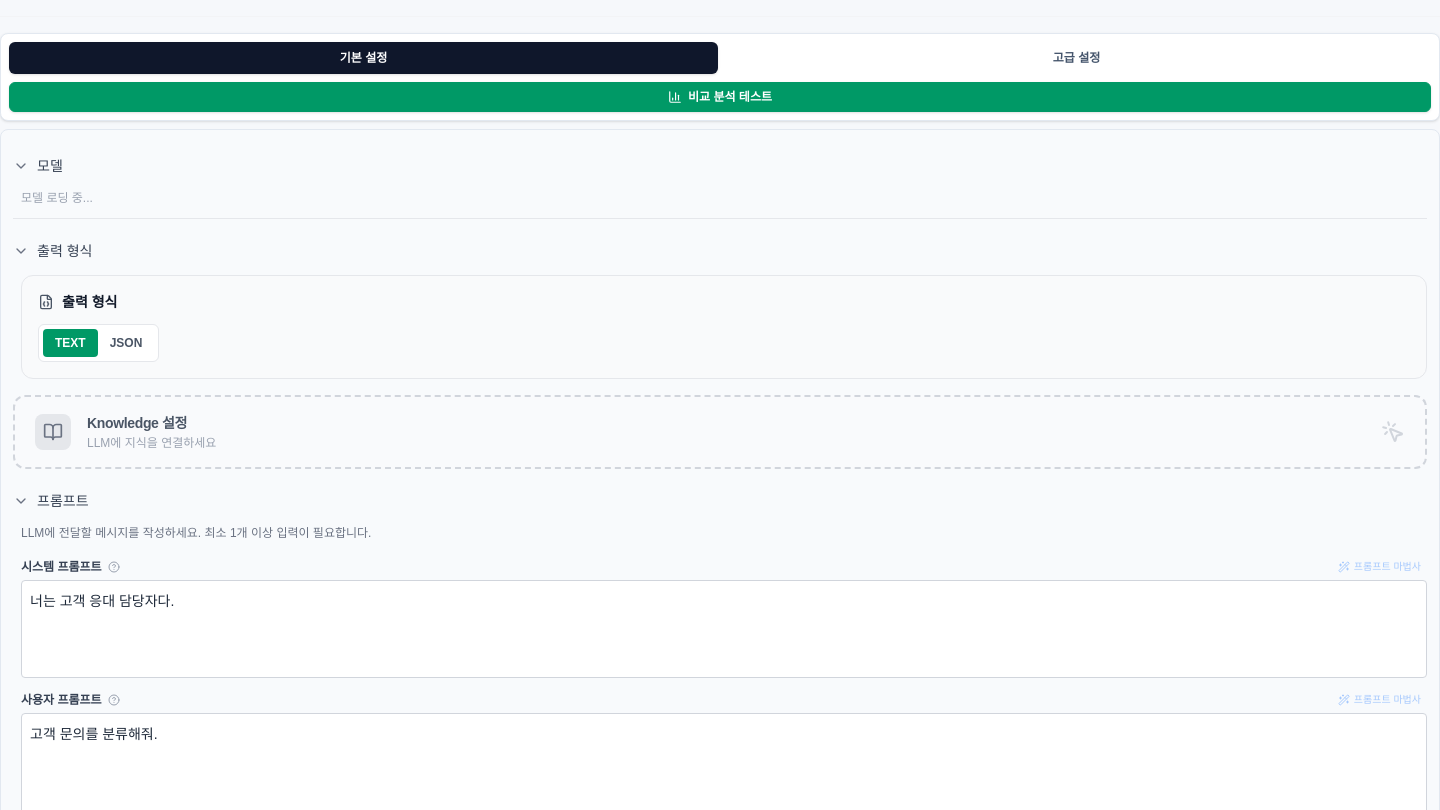
Scenario: FR-001 Cost Optimizer 비교 분석 진입 액션 › 저장되지 않은 draft가 있으면 저장 후 비교를 시작해야 한다는 안내를 표시한다
Click the button "비교 분석 테스트": [720, 97] box [9,82,1431,112]
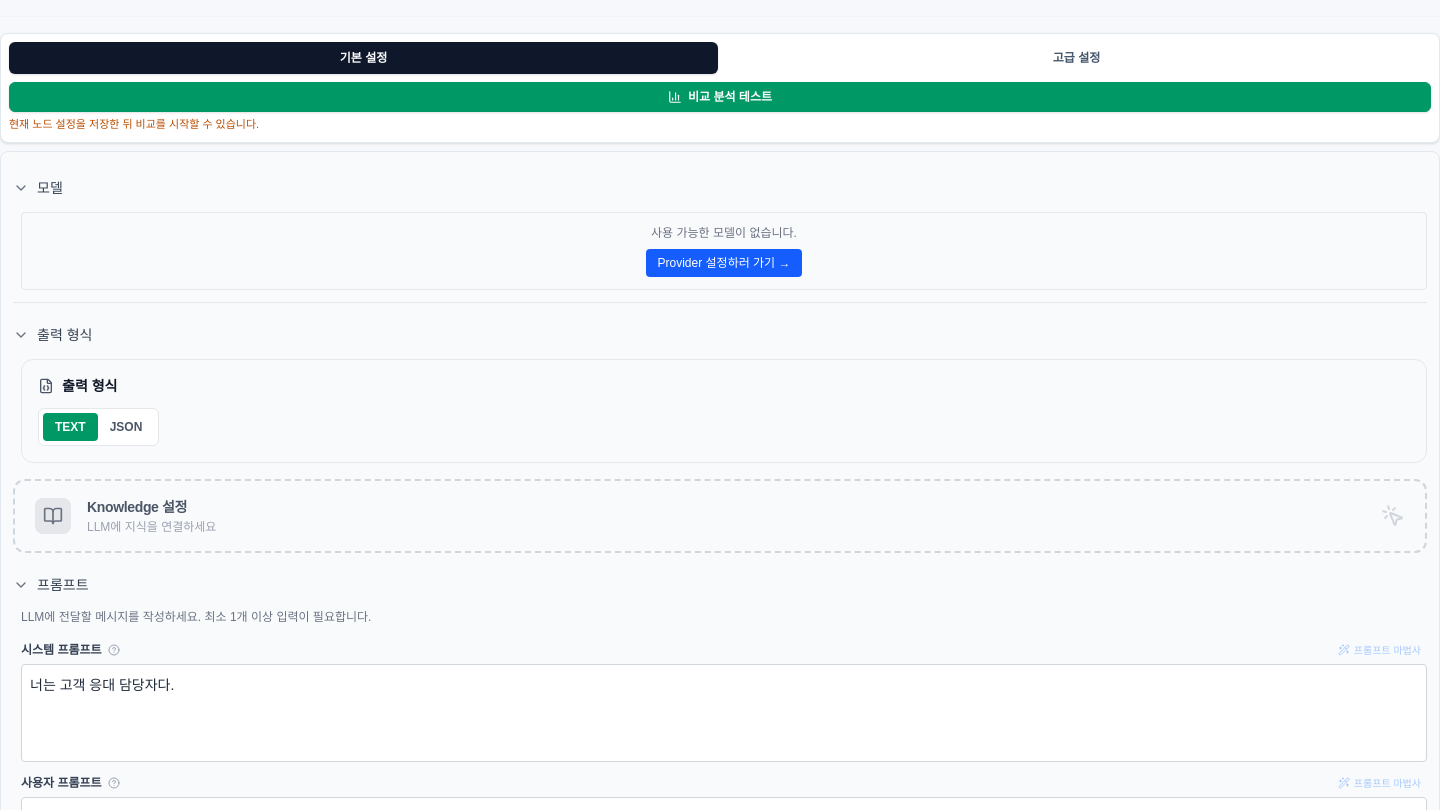
Now the text "현재 노드 설정을 저장한 뒤 비교를 시작할 수 있습니다." is shown, box [9,118,259,130]
